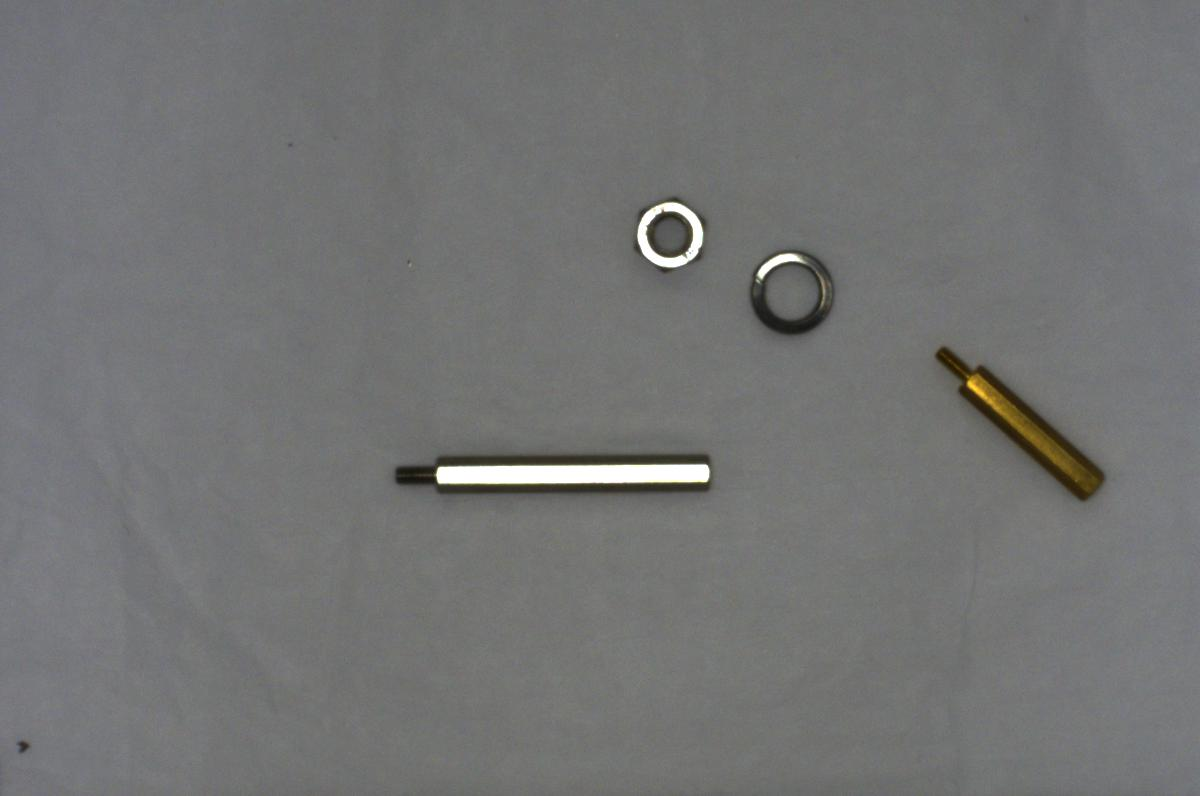Hexagon nut: (628, 183, 708, 280)
Hexagon pillar: (925, 340, 1110, 498)
Hexagonal steel column: (381, 445, 727, 510)
Spring washer: (741, 249, 840, 338)
